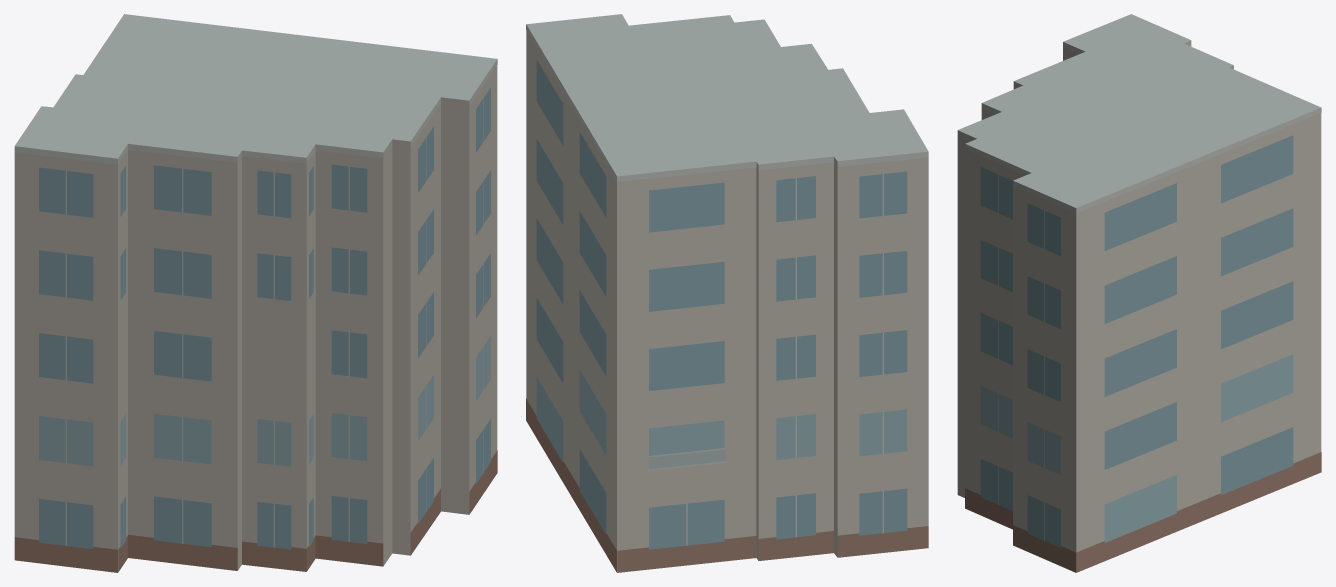
File: survey-upis-32749908.glb
3 views of the same model, side by side, from view 1: azimuth 30°, elevation 25°; view 2: azimuth 150°, elevation 25°; view 3: azimuth 270°, elevation 25° (orthographic). The views are drawn at different scales.
Parts seen in each view (by area): view 1: survey-upis-32749908.tmp; view 2: survey-upis-32749908.tmp; view 3: survey-upis-32749908.tmp.
Part boxes in pixels (box(x1,y1,x2,y2)): survey-upis-32749908.tmp: box(14, 14, 497, 572); survey-upis-32749908.tmp: box(526, 14, 928, 572); survey-upis-32749908.tmp: box(957, 14, 1321, 572).
Bounding box in the file's own units: 19.18 × 16.8 × 15.2.
